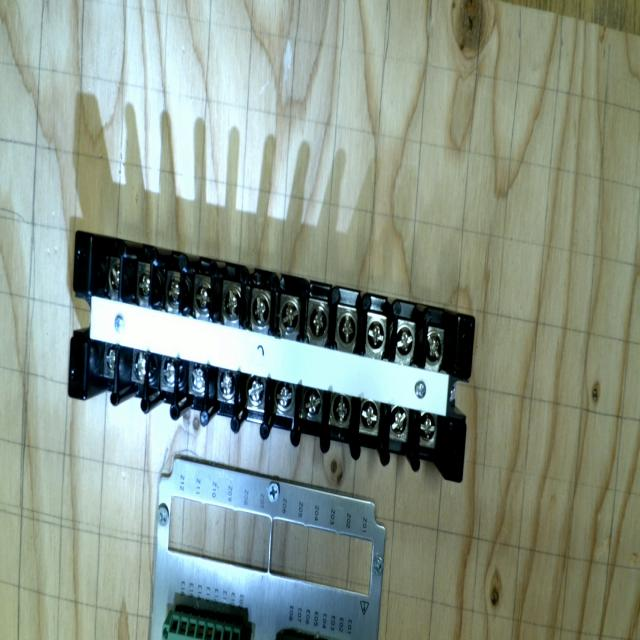Phillips_Block: (42, 231, 496, 481)
